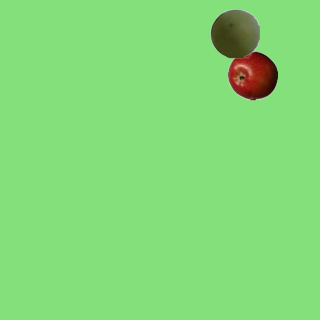Apple Braeburn: (227, 50, 277, 100)
Grape White 4: (209, 8, 259, 58)
